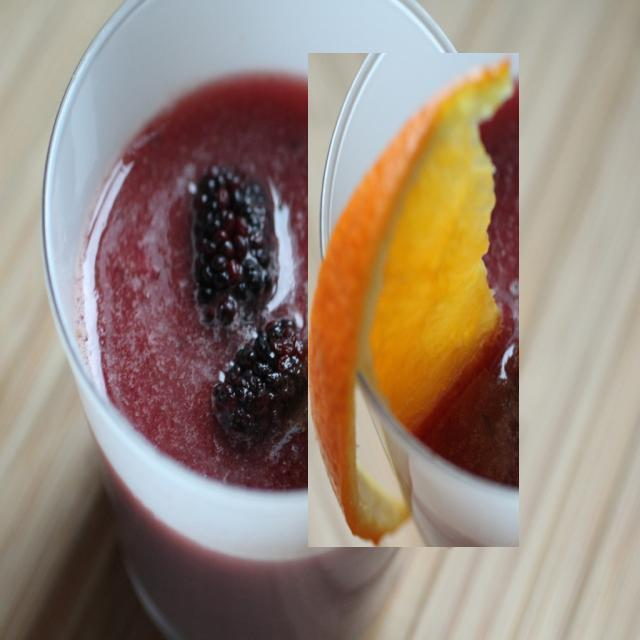Orange: (308, 53, 519, 547)
